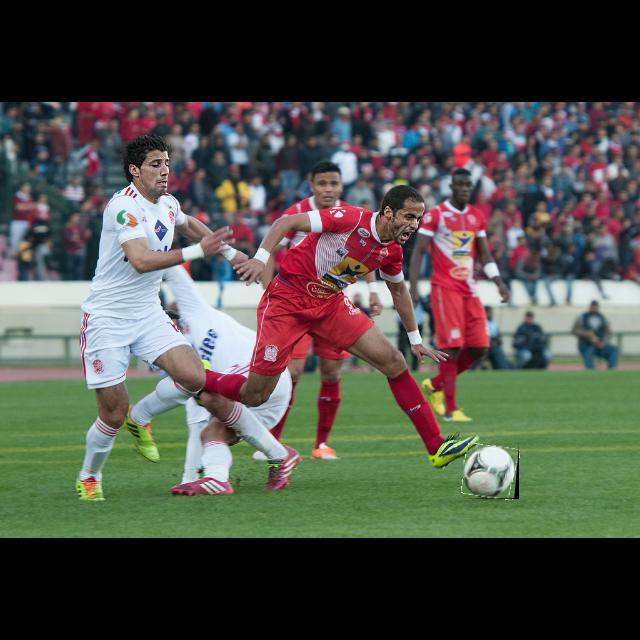Football: (463, 445, 519, 499)
